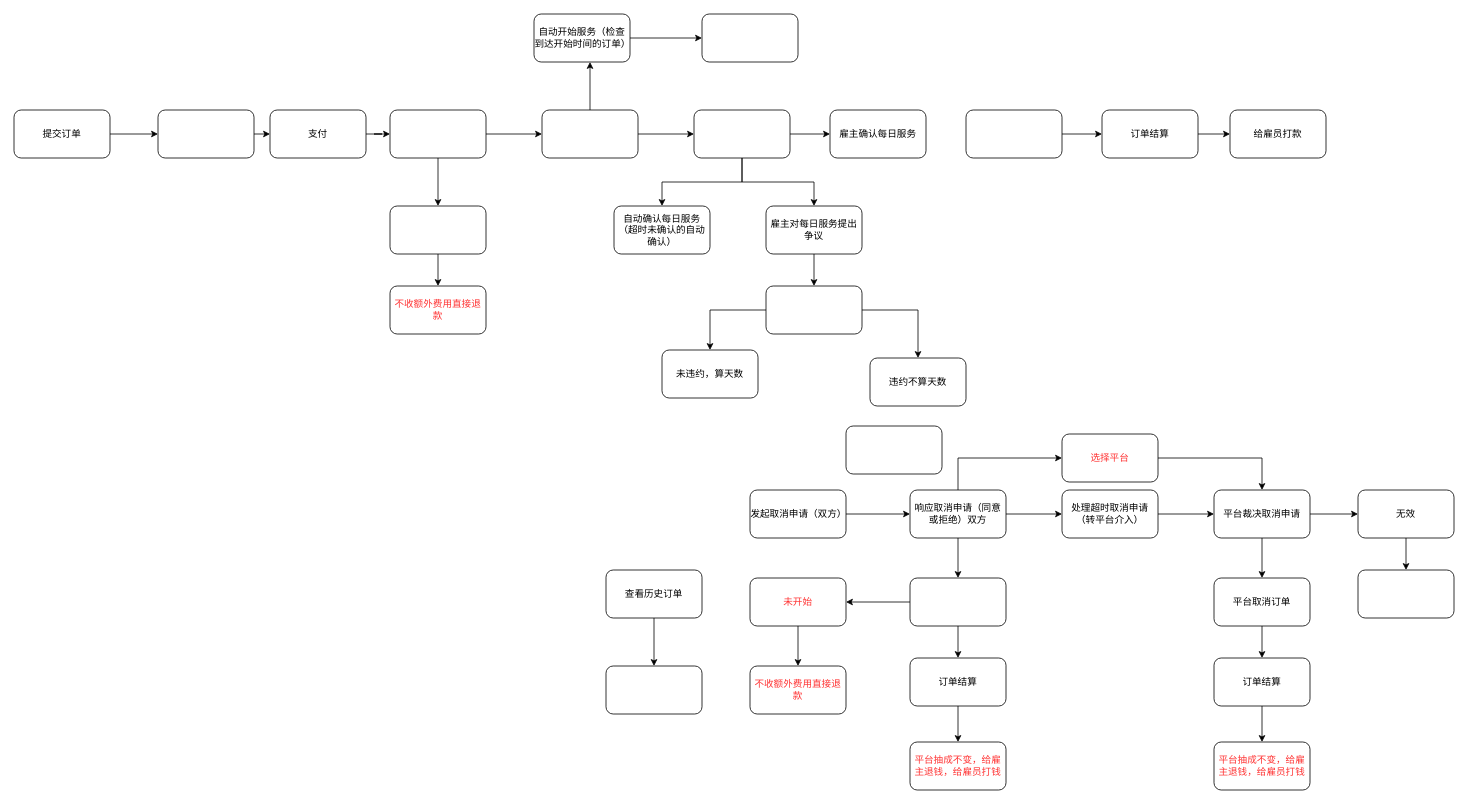
Some shapes in this 1468 by 804 pixel diagram are drawn without their labels. Each missing label, with the centre of its shape:
"只有两个选项，平台或者同意，平台判断是否违约" goes at [893,449].
"同意" goes at [957,601].
"完成订单" goes at [1013,133].
"家政人员每日服务完成确认" goes at [741,133].
"平台判定每日服务争议" goes at [813,309].
"拒单（被雇者拒绝接单）" goes at [437,229].
"接单（被雇者确认接单）" goes at [589,133].
"支付成功修改订单状态" goes at [437,133].
"查看订单详细信息" goes at [653,689].
"标记订单为进行中" goes at [749,37].
"正常履行" goes at [1405,593].
"生成并插入每日确认记录" goes at [205,133].
